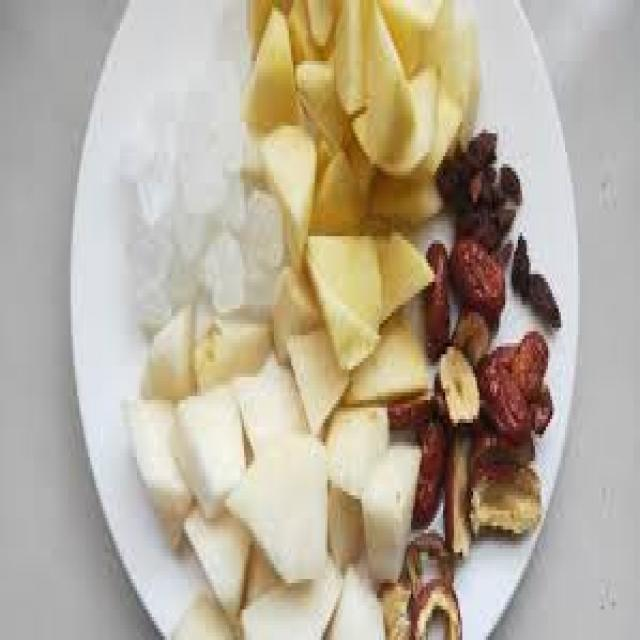organic waste: (222, 427, 330, 594), (332, 0, 439, 168), (118, 396, 192, 556), (304, 228, 377, 366), (167, 377, 244, 507), (255, 114, 317, 263), (180, 503, 250, 628), (358, 431, 420, 572), (236, 556, 344, 636), (338, 305, 430, 396), (235, 4, 298, 129), (285, 324, 351, 426), (464, 457, 540, 541), (229, 370, 306, 450), (319, 403, 387, 488), (190, 312, 270, 381), (293, 46, 349, 141), (471, 347, 526, 442), (372, 221, 430, 309), (368, 160, 450, 221), (326, 556, 388, 636), (376, 0, 452, 65), (167, 130, 225, 210), (450, 232, 503, 312), (313, 145, 366, 225), (411, 415, 449, 526), (144, 305, 192, 392), (199, 225, 244, 316), (272, 267, 317, 354), (325, 469, 366, 560), (443, 423, 471, 556), (446, 19, 478, 122), (507, 328, 548, 408), (236, 533, 280, 606), (411, 568, 458, 636), (437, 339, 475, 423), (422, 240, 449, 350), (434, 72, 471, 152), (383, 385, 443, 434), (462, 423, 531, 465), (404, 526, 452, 586), (172, 591, 236, 636), (452, 294, 490, 369), (244, 0, 297, 53), (238, 244, 284, 301), (201, 91, 246, 145), (120, 148, 163, 202), (139, 137, 169, 213), (163, 198, 212, 244), (244, 190, 280, 252), (287, 0, 319, 65), (524, 263, 558, 324), (377, 572, 409, 636), (135, 263, 169, 312), (167, 255, 201, 301), (120, 175, 148, 229), (507, 232, 529, 298), (214, 168, 242, 217), (473, 210, 505, 252), (306, 0, 338, 42), (172, 84, 204, 126), (522, 381, 548, 430), (469, 126, 501, 164), (432, 156, 460, 198), (220, 8, 244, 57), (124, 232, 161, 263), (488, 335, 514, 377), (212, 65, 248, 95), (452, 195, 479, 232), (497, 160, 518, 206), (146, 88, 169, 122), (481, 168, 501, 202), (464, 164, 482, 198), (449, 137, 469, 164), (492, 206, 510, 224)
